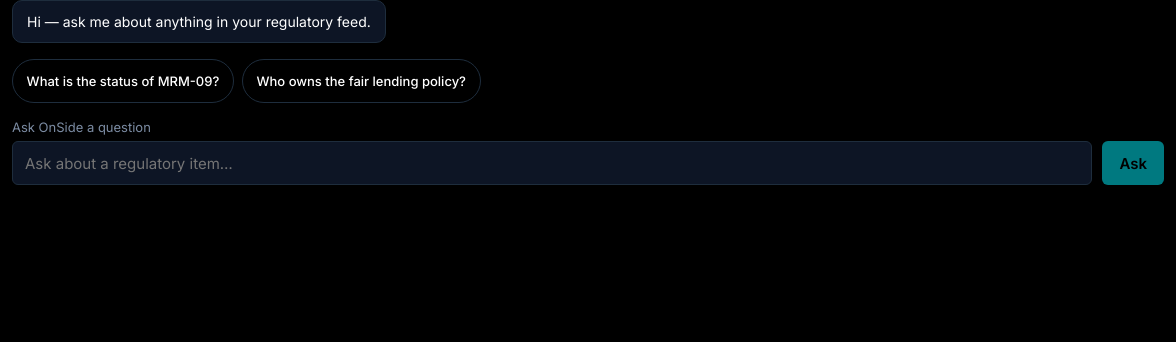
AskChatPanel — matching contract (AC-A16-9, §2.9.4) › an exact, case-insensitive, trimmed match on entry.question renders that entry's responseText
The image size is (1176, 342).
Type "  what IS the status of mrm-09?  " into the field labelled "Ask OnSide a question" at (552, 163), box [12,141,1092,185]
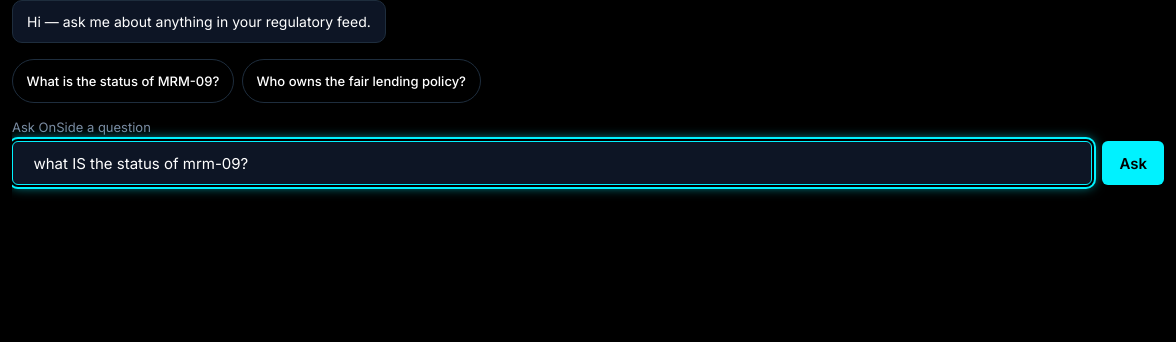
Click the button "Ask" at (1133, 163), box [1102,141,1164,185]
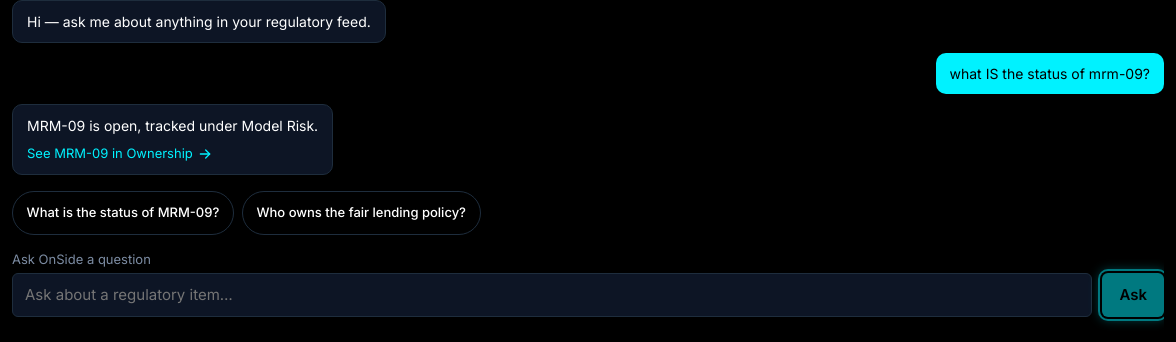
Expected: the text "MRM-09 is open, tracked under Model Risk." is shown, [27,117,318,134]
